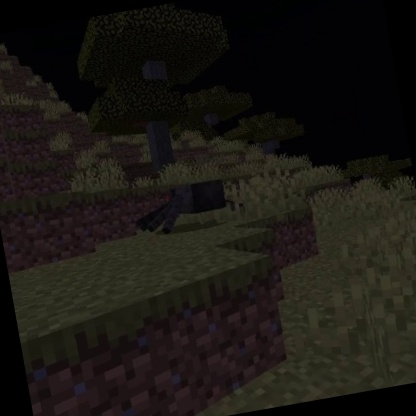spider: (129, 174, 238, 243)
